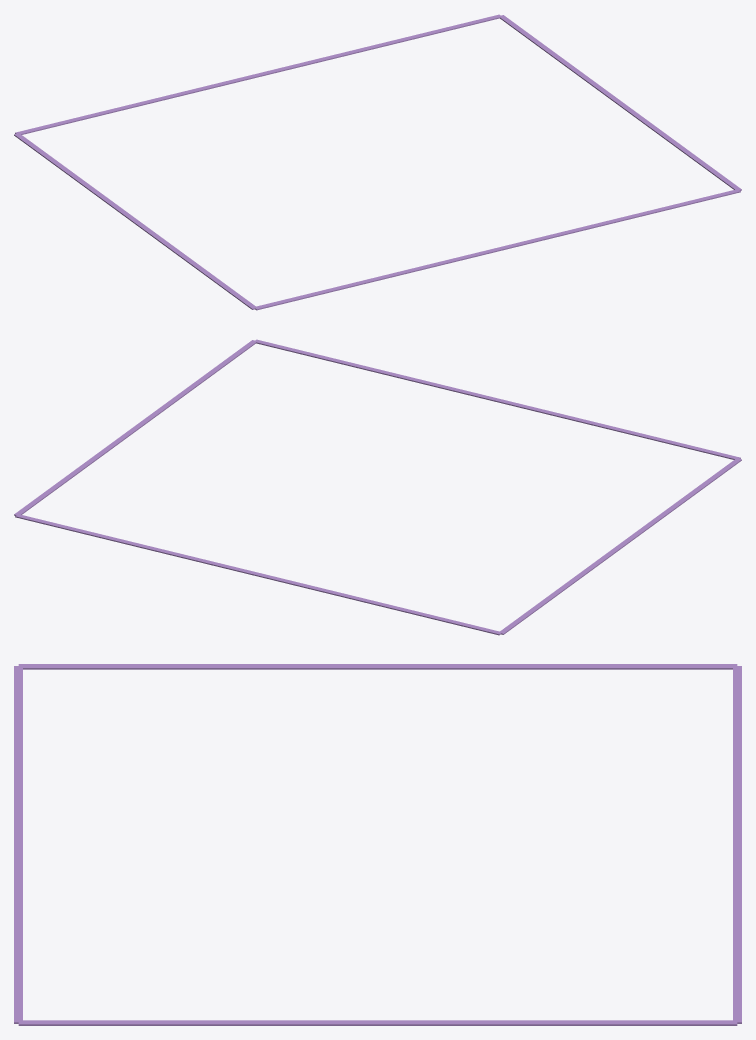
File: vegas-dwarka.glb
The picture shows the model from 3 angles, top to bottom: view 1: azimuth 30°, elevation 25°; view 2: azimuth 150°, elevation 25°; view 3: azimuth 270°, elevation 25°; orthographic projection. The views are drawn at different scales.
Visible parts, largest first — view 1: NCR_vegas-dwarka; view 2: NCR_vegas-dwarka; view 3: NCR_vegas-dwarka.
Boxes of the visible parts, bbox=[...] form: NCR_vegas-dwarka: bbox=[14, 14, 741, 310]; NCR_vegas-dwarka: bbox=[14, 339, 741, 635]; NCR_vegas-dwarka: bbox=[14, 664, 741, 1025].
Bounding box in the file's own units: 187 × 0.4 × 160.
